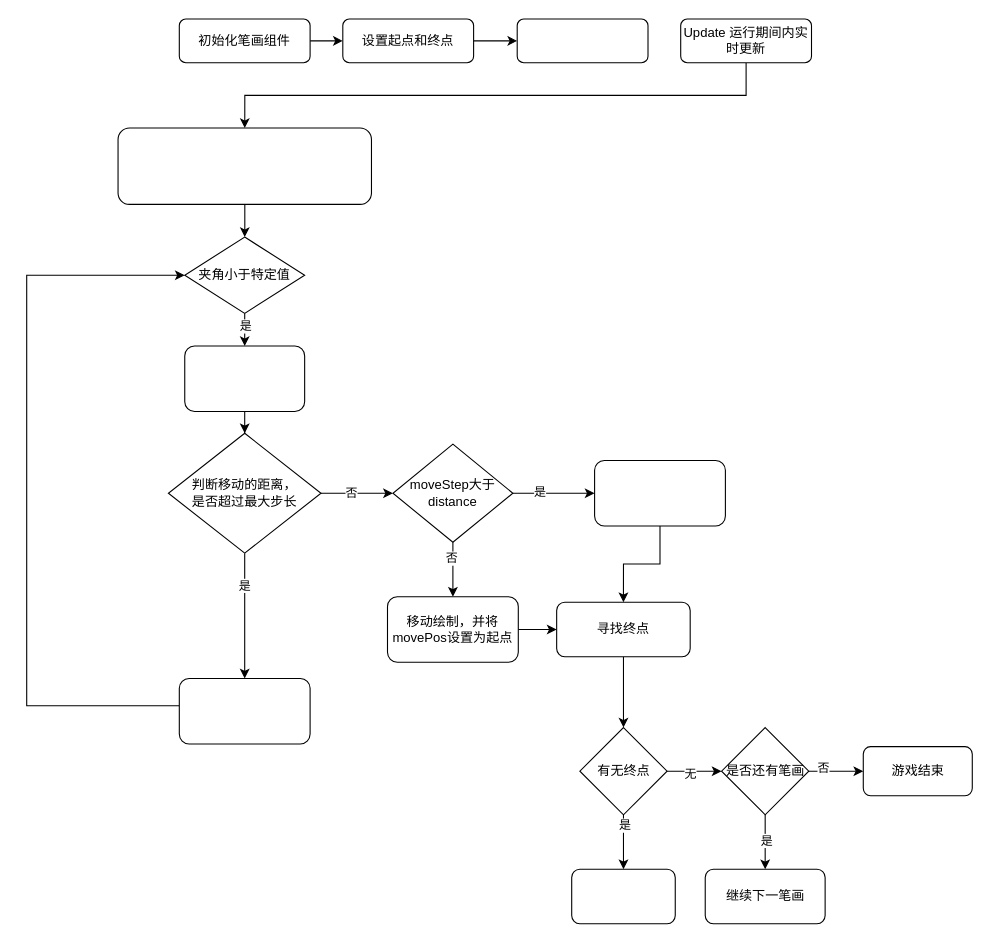
The diagram is 992 pixels wide and 943 high, and some of its shapes have lost their labels. The shapes that lost their labels are listed below. From the top down, each one's centre as x and y in pixels, then its label:
At (x=582, y=40): "开始拖拽，获取当前手指点curPoint".
At (x=244, y=165): "根据curPoint计算出起点的夹角，计算起点和终点距离distance，并计算curPoint在起点和终点连线上的投影点p".
At (x=244, y=378): "根据当前movePos点，计算出移动的距离moveStep".
At (x=659, y=492): "设置终点为移动点，并移动绘制，最后设置终点为起点".
At (x=244, y=710): "设置移动为最大步长，并计算出movePos".
At (x=623, y=896): "设置终点，继续当前笔画绘制".
